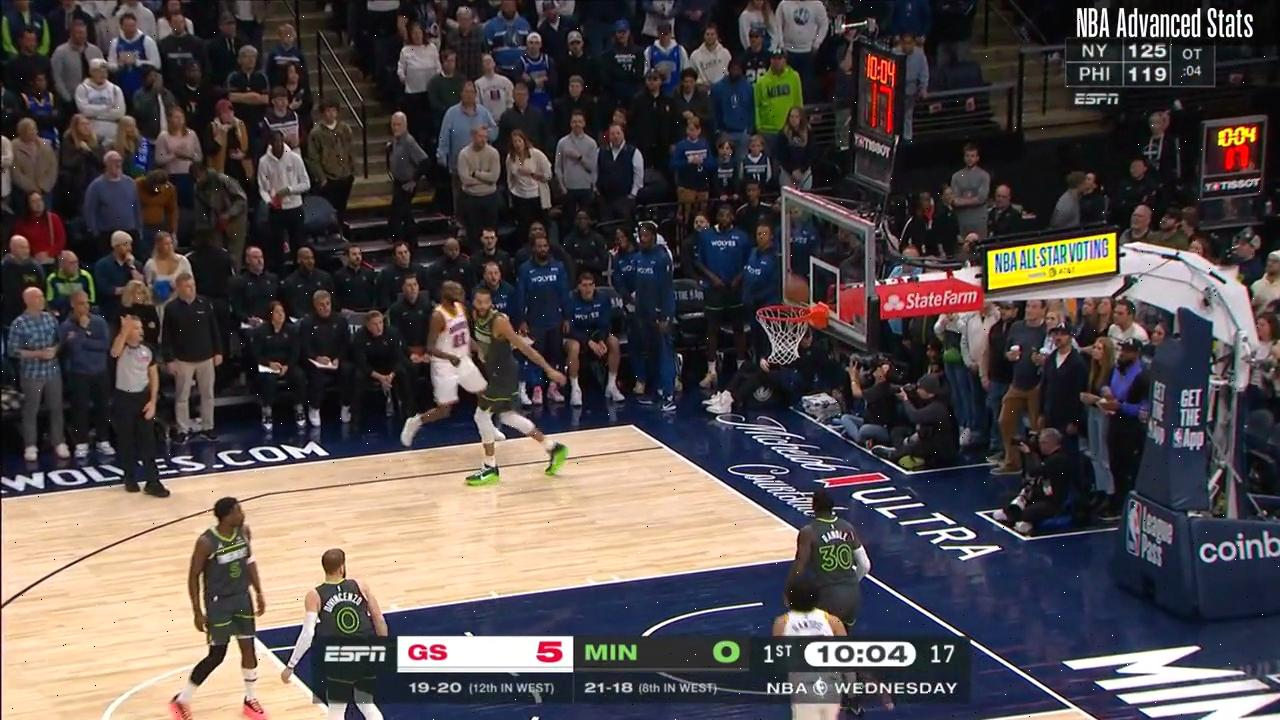basketball: (783, 273, 809, 305)
